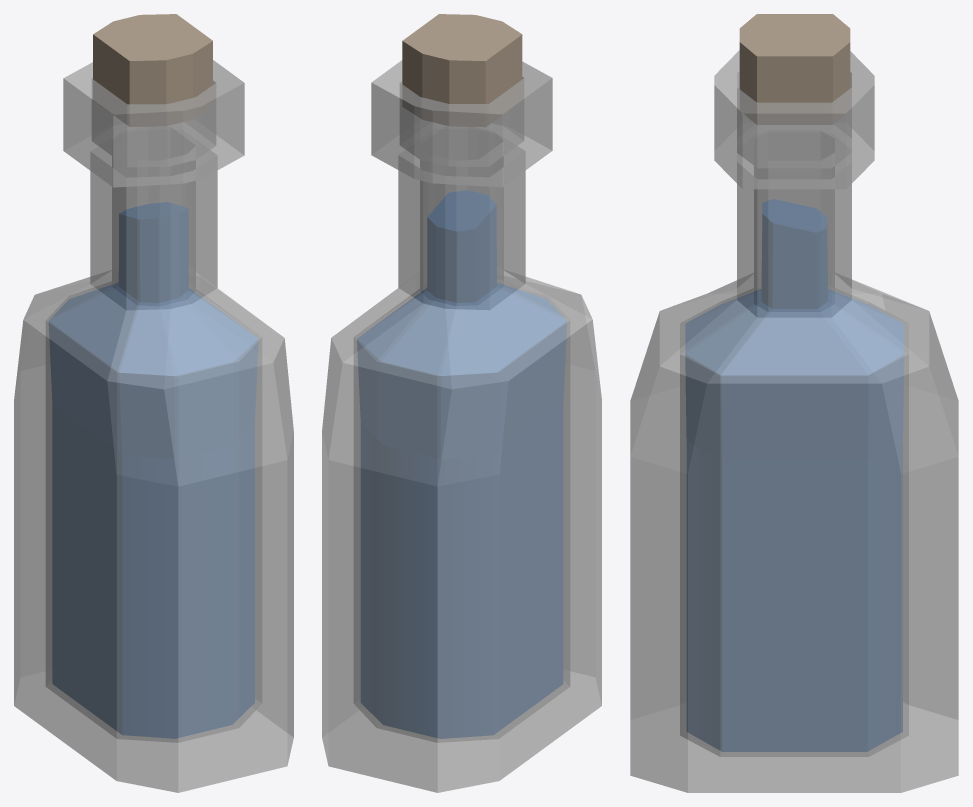
The model's file is jar_ectoplasm.fbx.
The picture shows the model from 3 angles, left to right: view 1: azimuth 30°, elevation 25°; view 2: azimuth 150°, elevation 25°; view 3: azimuth 270°, elevation 25°; orthographic projection. The views are drawn at different scales.
Visible parts, largest first — view 1: bottle, cork; view 2: bottle, cork; view 3: bottle, cork.
Boxes of the visible parts, <box> form: bottle: <box>14,60,293,792</box>; cork: <box>93,14,212,126</box>; bottle: <box>322,60,601,792</box>; cork: <box>402,14,522,126</box>; bottle: <box>630,50,958,792</box>; cork: <box>739,14,850,124</box>.
Bounding box in the file's own units: 0.1187 × 0.4375 × 0.1829.
